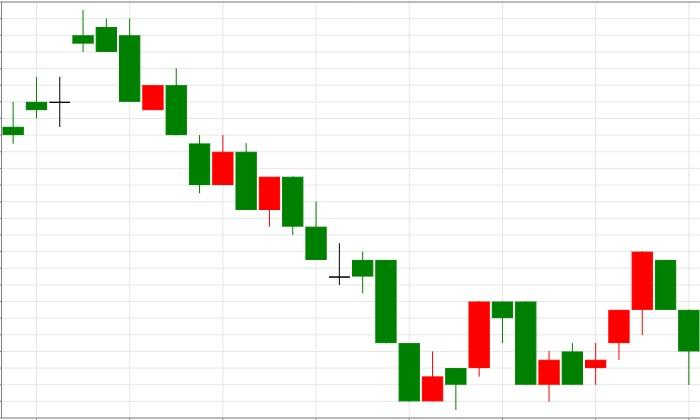bullish_engulfing_rise: (71, 9, 188, 136)
three_white_soldiers_rise: (491, 251, 654, 401)
